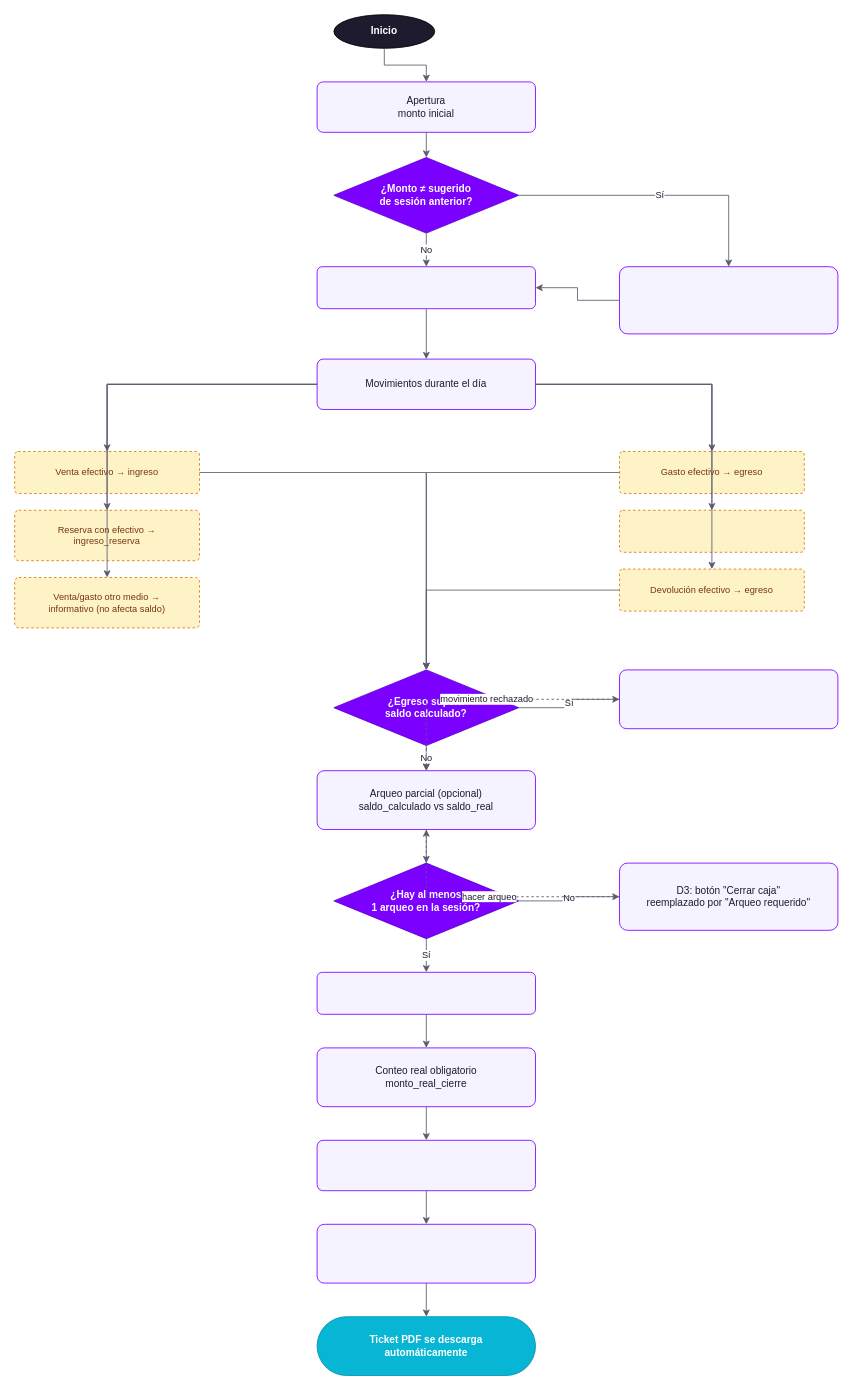
The diagram is 853 pixels wide and 1390 high, and some of its shapes have lost their labels. Each missing label, with the box of its shape:
CAJ-18: bloquea el movimiento la caja nunca queda negativa: (619, 669, 838, 729)
Cerrar caja: (316, 971, 536, 1014)
diferencia_cierre = esperado - contado: (316, 1139, 536, 1191)
No bloquea el cierre queda registrada la diferencia: (316, 1223, 536, 1283)
Sesión abierta: (316, 266, 536, 309)
Traspaso entre cajas: (619, 509, 804, 552)
Warning + confirmación 2 pasos notifica OWNER/SUPERVISOR + email: (619, 266, 838, 334)
